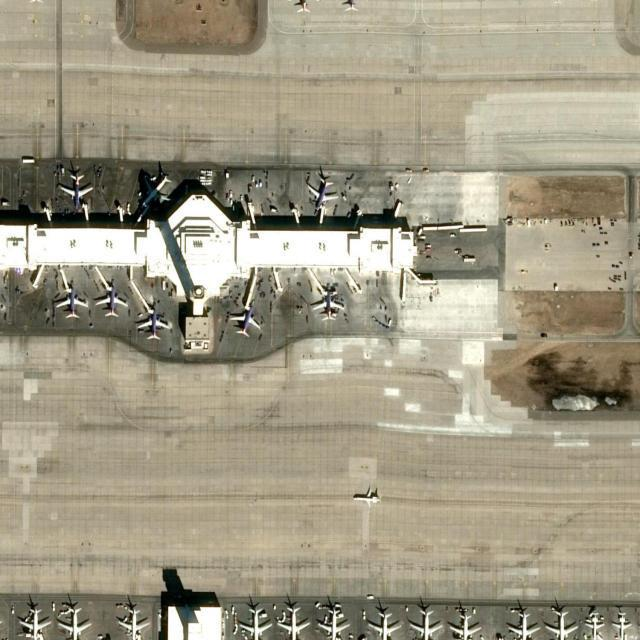Aircraft: (134, 167, 172, 211), (235, 600, 275, 640), (309, 282, 345, 324), (92, 277, 128, 319), (276, 600, 313, 640), (304, 173, 341, 212), (135, 300, 169, 340), (56, 170, 92, 207), (116, 603, 150, 639), (316, 604, 350, 640), (364, 608, 402, 640), (17, 606, 52, 640), (56, 281, 86, 320), (228, 303, 262, 337), (58, 605, 91, 640), (408, 607, 440, 640), (508, 608, 540, 640), (546, 607, 576, 640), (450, 610, 482, 640), (352, 487, 382, 509), (612, 611, 630, 640), (585, 612, 603, 640), (291, 0, 313, 19), (337, 1, 364, 15)
